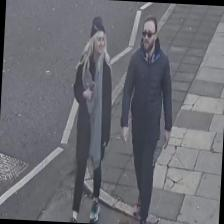person: (114, 15, 176, 223), (66, 14, 114, 224)
